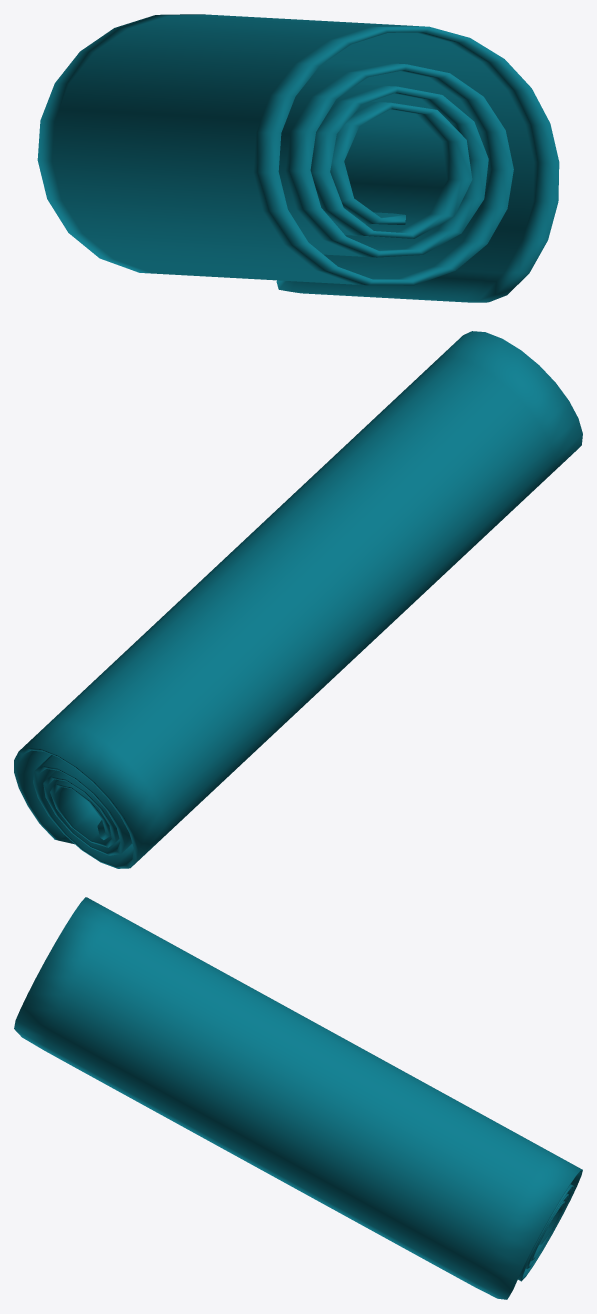
Rendered from blueprint (1).fbx.
3 renders of one model, top to bottom at view 1: azimuth 30°, elevation 25°; view 2: azimuth 150°, elevation 25°; view 3: azimuth 270°, elevation 25°, orthographic. The views are drawn at different scales.
Parts seen in each view (by area): view 1: Blueprint; view 2: Blueprint; view 3: Blueprint.
Boxes of the visible parts, bbox=[...] form: Blueprint: bbox=[37, 14, 559, 302]; Blueprint: bbox=[14, 331, 582, 868]; Blueprint: bbox=[14, 897, 582, 1299].
Bounding box in the file's own units: 67.64 × 80.83 × 131.
